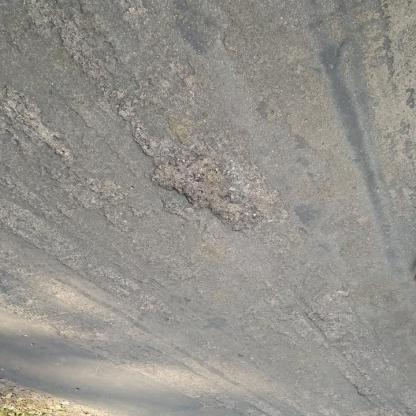pothole: (149, 155, 250, 225)
